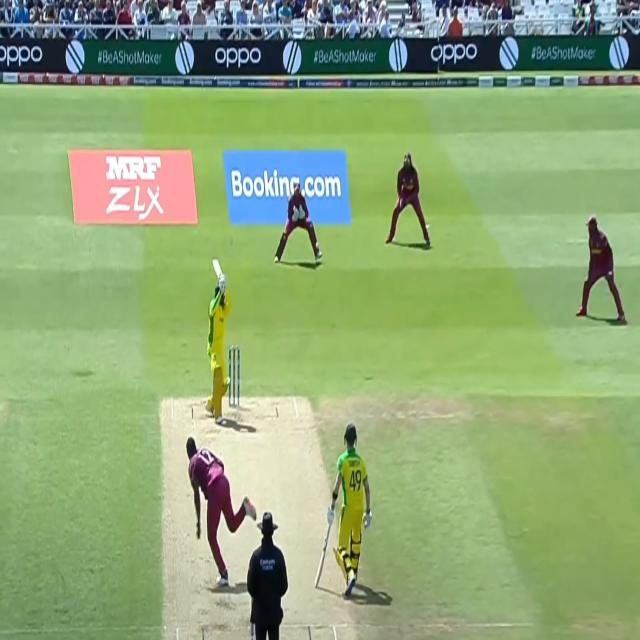ball: (314, 240, 322, 258)
